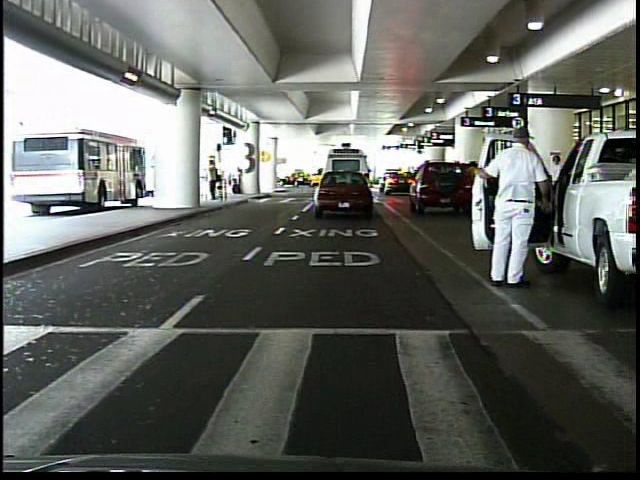person: (480, 122, 551, 292), (541, 149, 569, 222), (206, 155, 221, 203), (231, 163, 247, 198)
